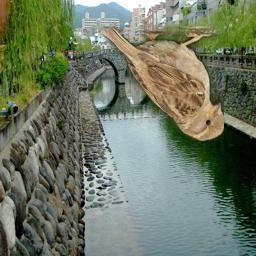Sparrow: (98, 26, 224, 141)
